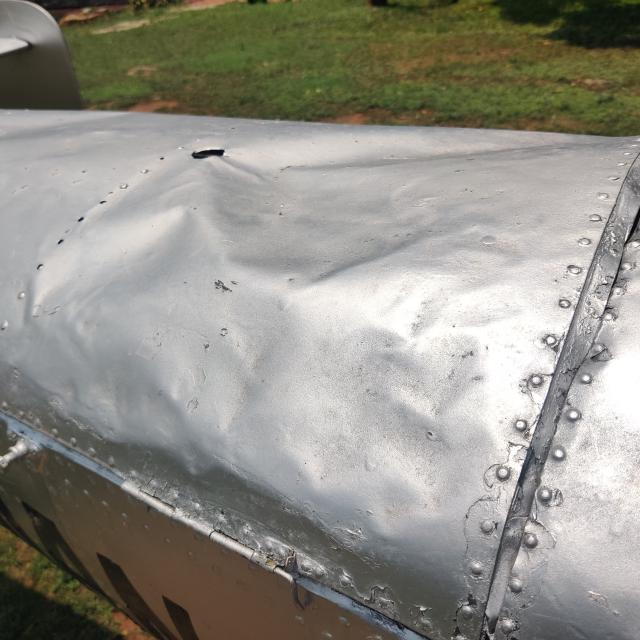dent: (284, 288, 501, 538), (182, 154, 488, 316), (5, 182, 214, 340)
